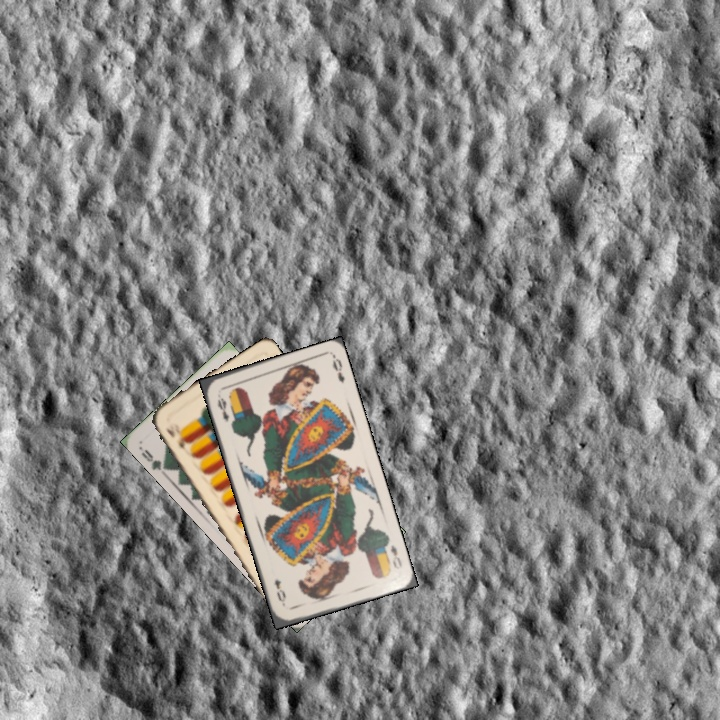E10: (161, 424, 190, 452)
EO: (213, 393, 232, 424), (387, 541, 405, 572)
G9: (137, 445, 170, 473)
